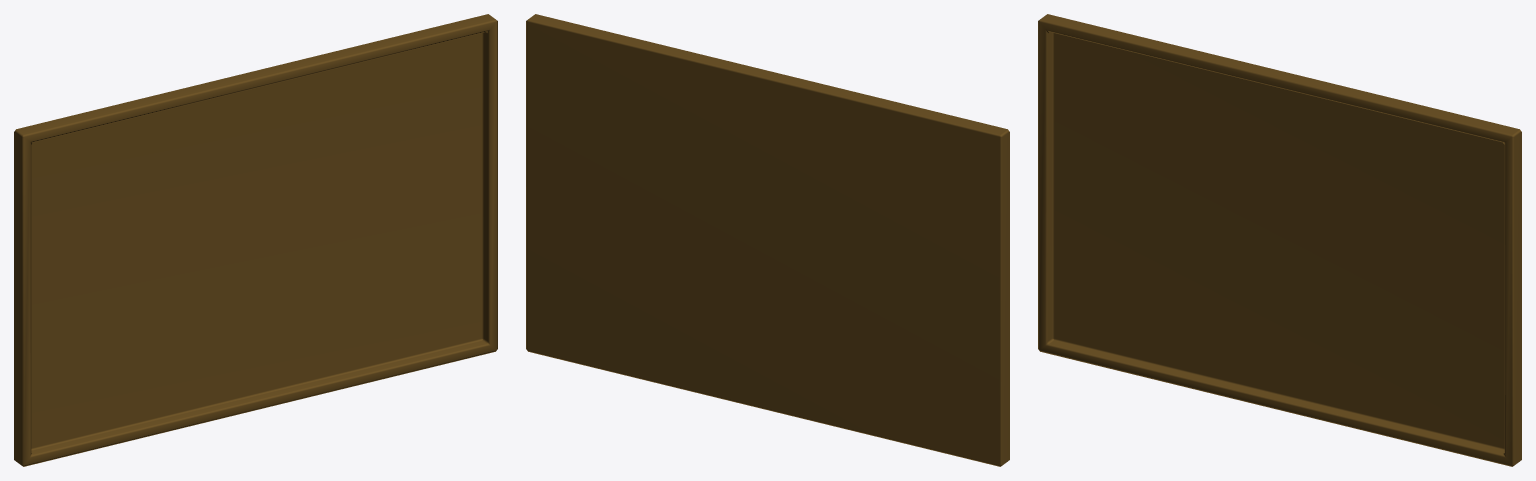
Rendered from SeanElstonToolBoardUnwrapped.fbx.
The picture shows the model from 3 angles, left to right: view 1: azimuth 30°, elevation 25°; view 2: azimuth 150°, elevation 25°; view 3: azimuth 330°, elevation 25°; orthographic projection.
Parts seen in each view (by area): view 1: ToolBoard; view 2: ToolBoard; view 3: ToolBoard.
Boxes of the visible parts, x1,y1,x2,y2 form: ToolBoard: [14, 14, 497, 466]; ToolBoard: [526, 14, 1009, 466]; ToolBoard: [1038, 14, 1521, 466].
Bounding box in the file's own units: 93.91 × 62.61 × 2.95.
